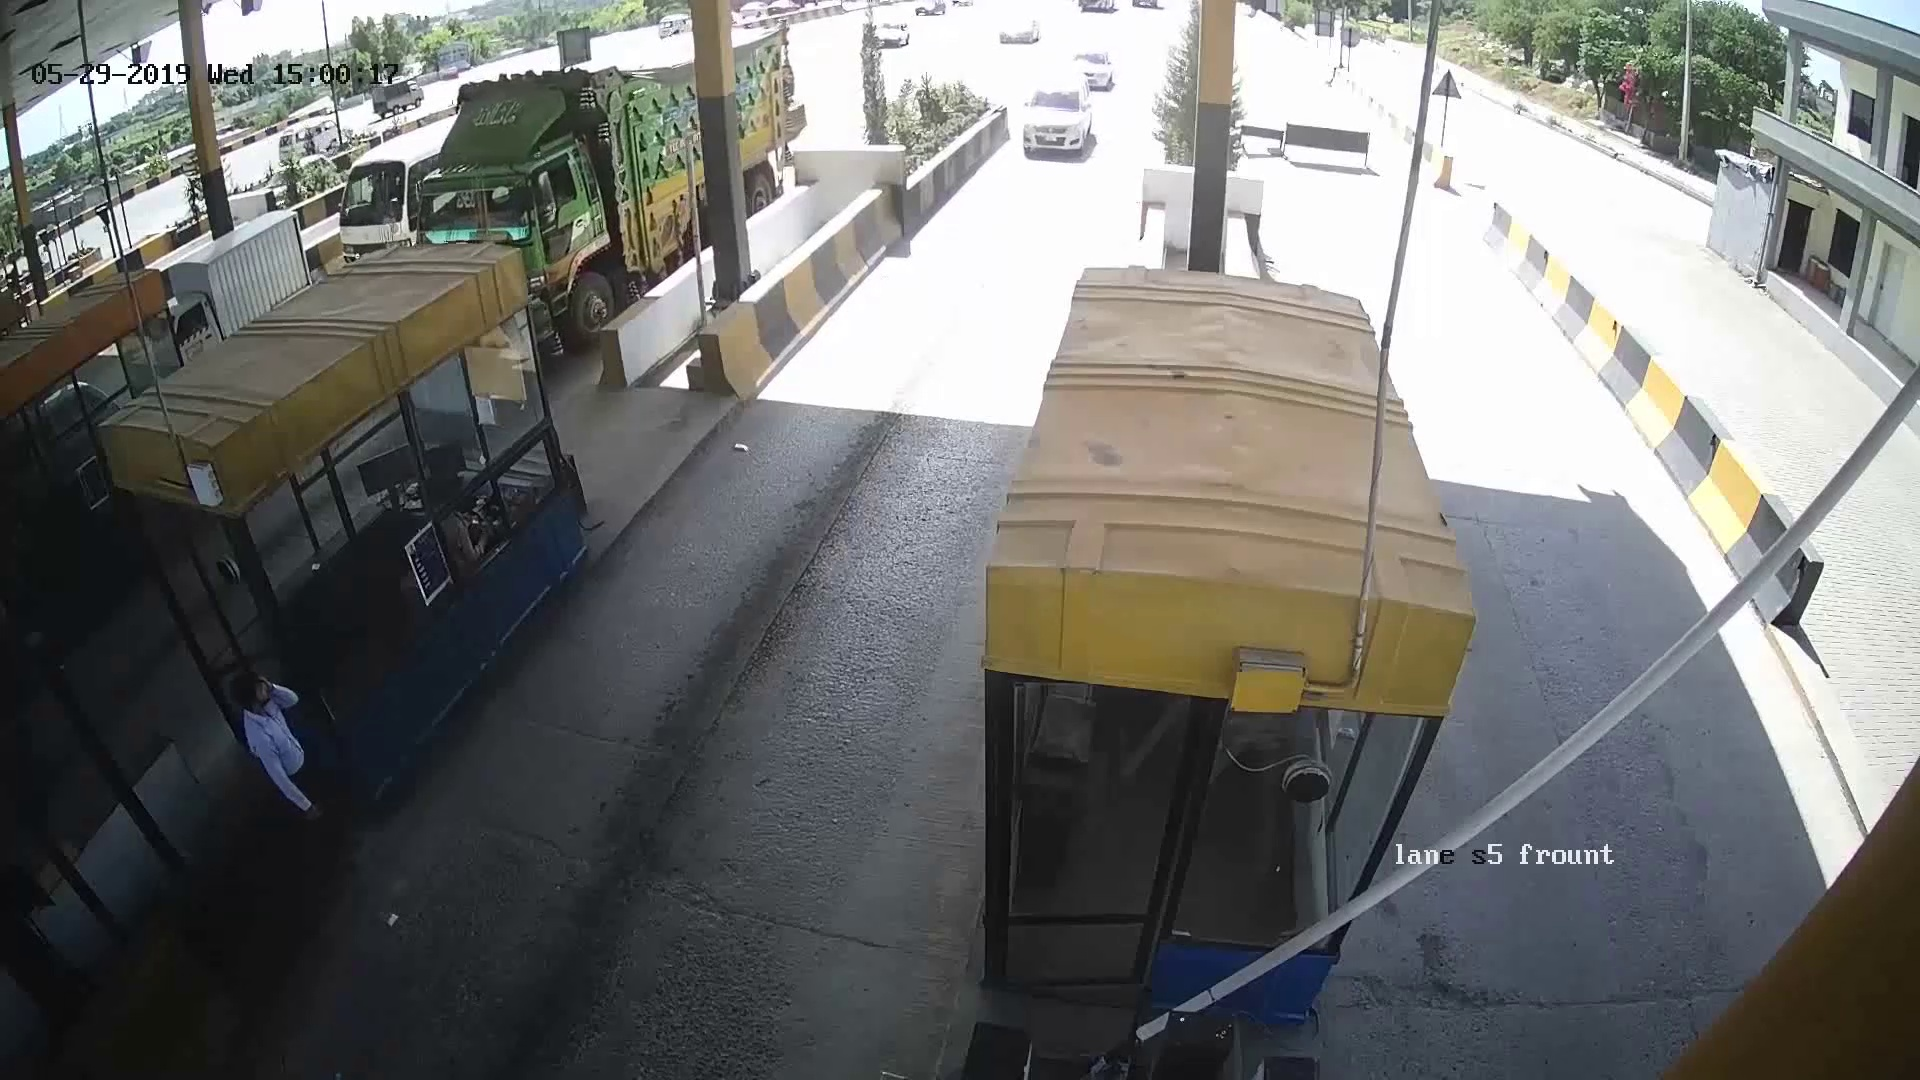car: (1013, 87, 1100, 167)
